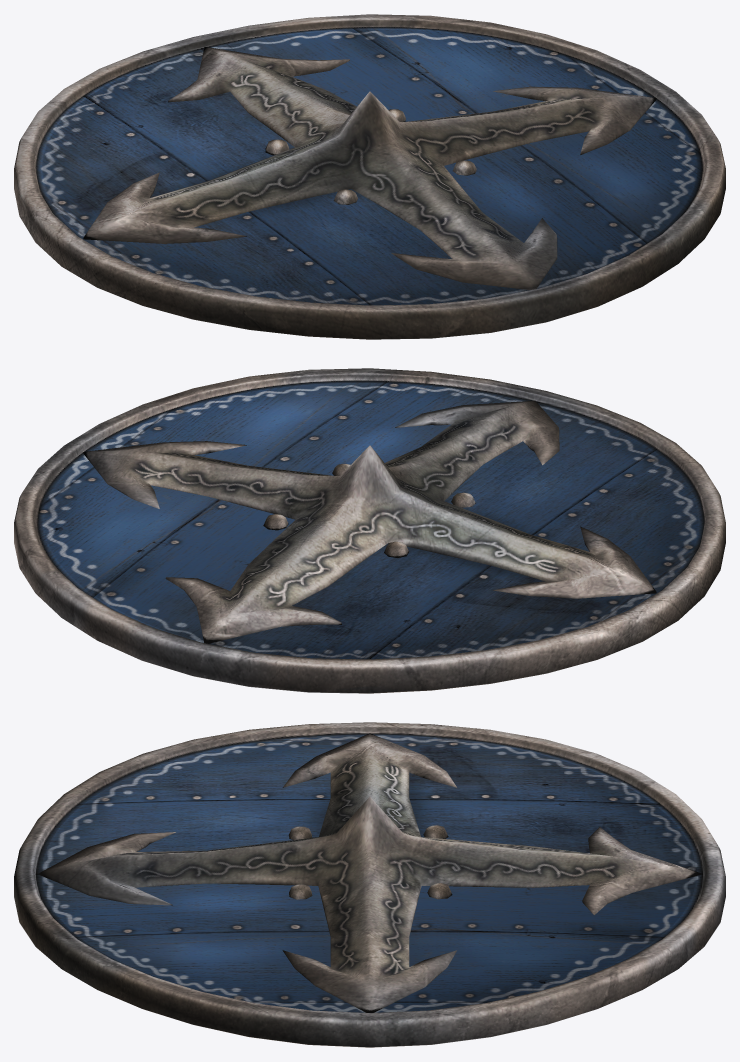
Rendered from Targe_C.FBX.
3 renders of one model, top to bottom at view 1: azimuth 30°, elevation 25°; view 2: azimuth 150°, elevation 25°; view 3: azimuth 270°, elevation 25°, orthographic.
Visible parts, largest first — view 1: Targe_C; view 2: Targe_C; view 3: Targe_C.
Boxes of the visible parts, bbox=[...] form: Targe_C: bbox=[14, 14, 725, 339]; Targe_C: bbox=[14, 368, 725, 693]; Targe_C: bbox=[14, 722, 725, 1047].
Bounding box in the file's own units: 64.51 × 14.8 × 64.5.
